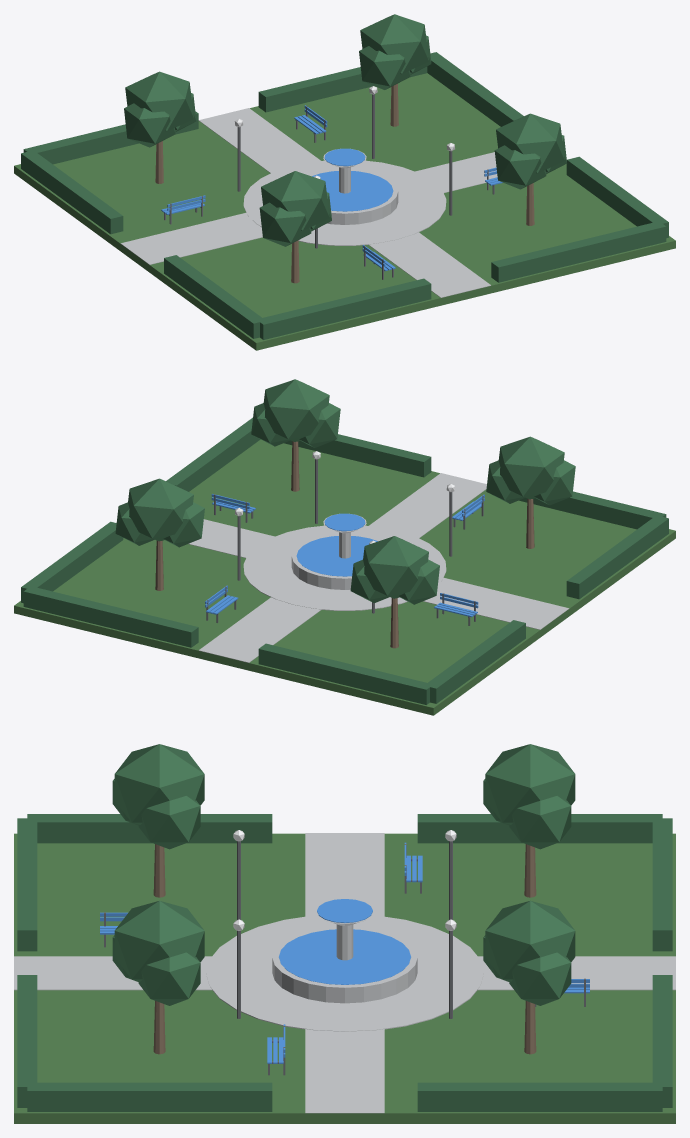
File: Park_Tile_01.fbx
3 renders of one model, top to bottom at view 1: azimuth 30°, elevation 25°; view 2: azimuth 150°, elevation 25°; view 3: azimuth 270°, elevation 25°, orthographic. The views are drawn at different scales.
Visible parts, largest first — view 1: Park_Tile_01_Grass, Park_Tile_01_Foliage, Park_Tile_01_Structure, Park_Tile_01_Accent, Park_Tile_01_Bark, Park_Tile_01_Trim; view 2: Park_Tile_01_Grass, Park_Tile_01_Foliage, Park_Tile_01_Structure, Park_Tile_01_Accent, Park_Tile_01_Bark, Park_Tile_01_Trim; view 3: Park_Tile_01_Grass, Park_Tile_01_Foliage, Park_Tile_01_Structure, Park_Tile_01_Accent, Park_Tile_01_Bark, Park_Tile_01_Trim.
Part boxes in pixels (x1,y1,x2,y2): Park_Tile_01_Grass: (14, 73, 675, 350); Park_Tile_01_Foliage: (21, 14, 668, 339); Park_Tile_01_Structure: (120, 108, 497, 297); Park_Tile_01_Accent: (161, 105, 502, 271); Park_Tile_01_Bark: (155, 83, 534, 283); Park_Tile_01_Trim: (164, 94, 494, 279); Park_Tile_01_Grass: (14, 439, 675, 715); Park_Tile_01_Foliage: (21, 379, 668, 704); Park_Tile_01_Structure: (188, 473, 569, 662); Park_Tile_01_Accent: (205, 494, 484, 617); Park_Tile_01_Bark: (155, 441, 534, 648); Park_Tile_01_Trim: (206, 459, 483, 625); Park_Tile_01_Grass: (14, 833, 675, 1123); Park_Tile_01_Foliage: (17, 744, 672, 1111); Park_Tile_01_Structure: (14, 833, 675, 1113); Park_Tile_01_Accent: (100, 842, 589, 1063); Park_Tile_01_Bark: (153, 844, 536, 1054); Park_Tile_01_Trim: (104, 841, 585, 1075).
Bounding box in the file's own units: 20 × 5.39 × 20.
